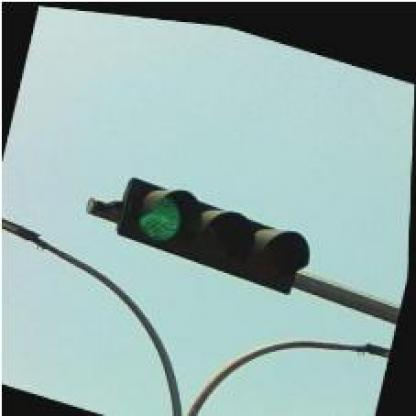green: (114, 168, 315, 290)
